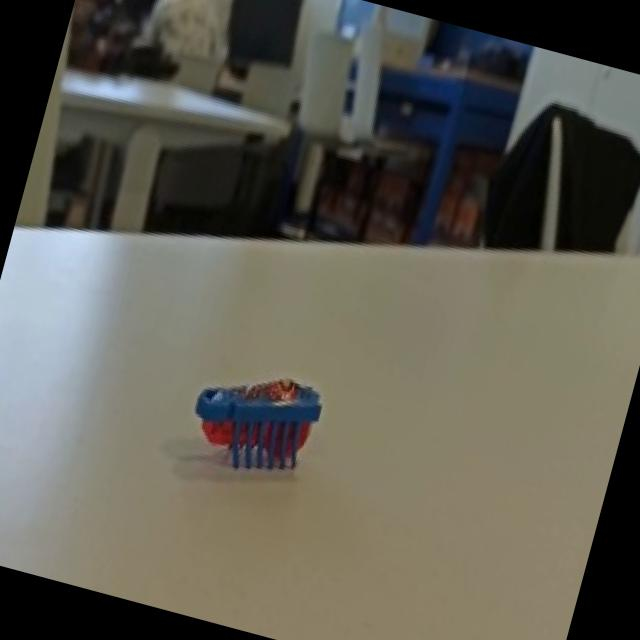1_NanoBug_Azul: (148, 338, 374, 534)
